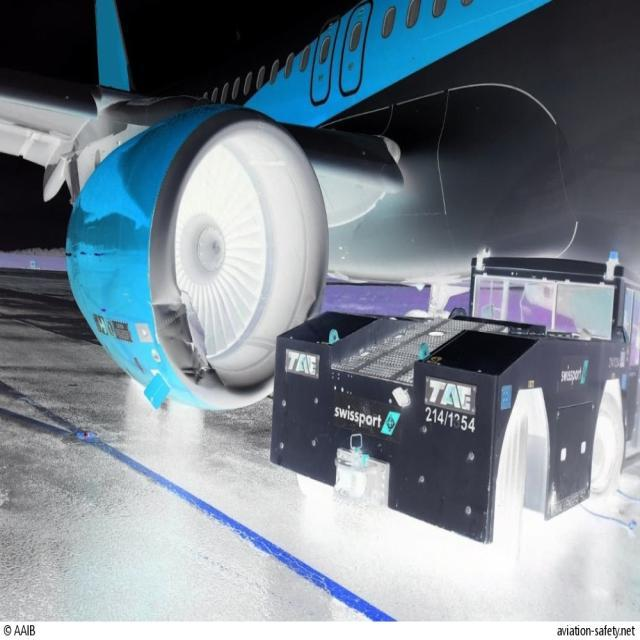crack: (178, 292, 212, 370)
dent: (154, 304, 186, 342), (181, 367, 211, 393), (306, 290, 324, 319)
